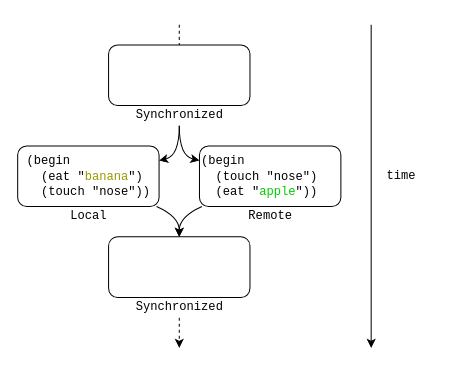
Image size: 449x374. Some labels were removed from this diagram. The box of each missing label's shape, as (x1, y1, x2, y2) in pixels:
(begin (eat " apple ") (touch "nose")): (108, 44, 250, 106)
(begin (touch "nose") (eat " banana ") ): (108, 236, 250, 297)
